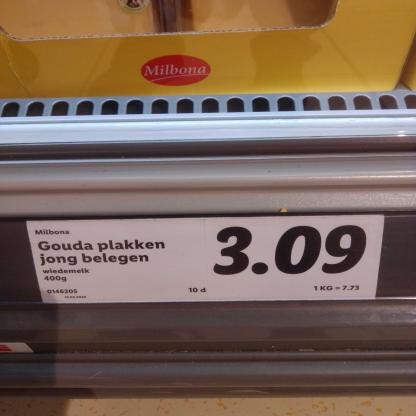prtg: (27, 216, 386, 304)
